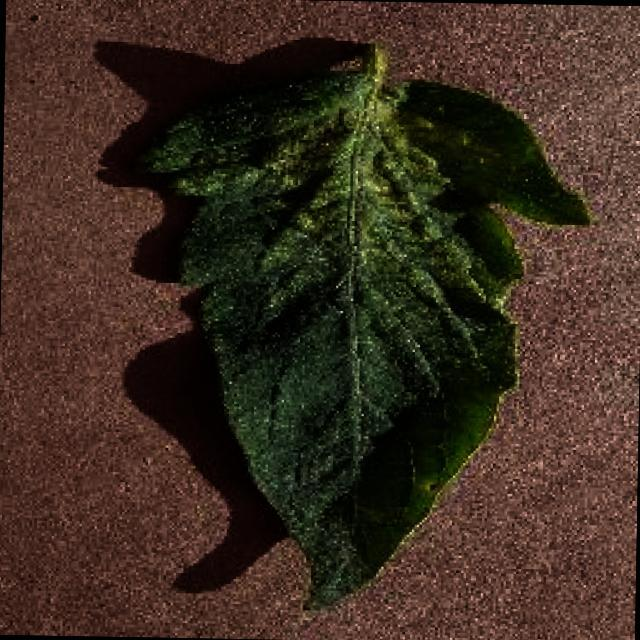Tomato spider mites leaf: (132, 62, 594, 620)
